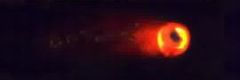keyhole: (168, 28, 182, 44)
